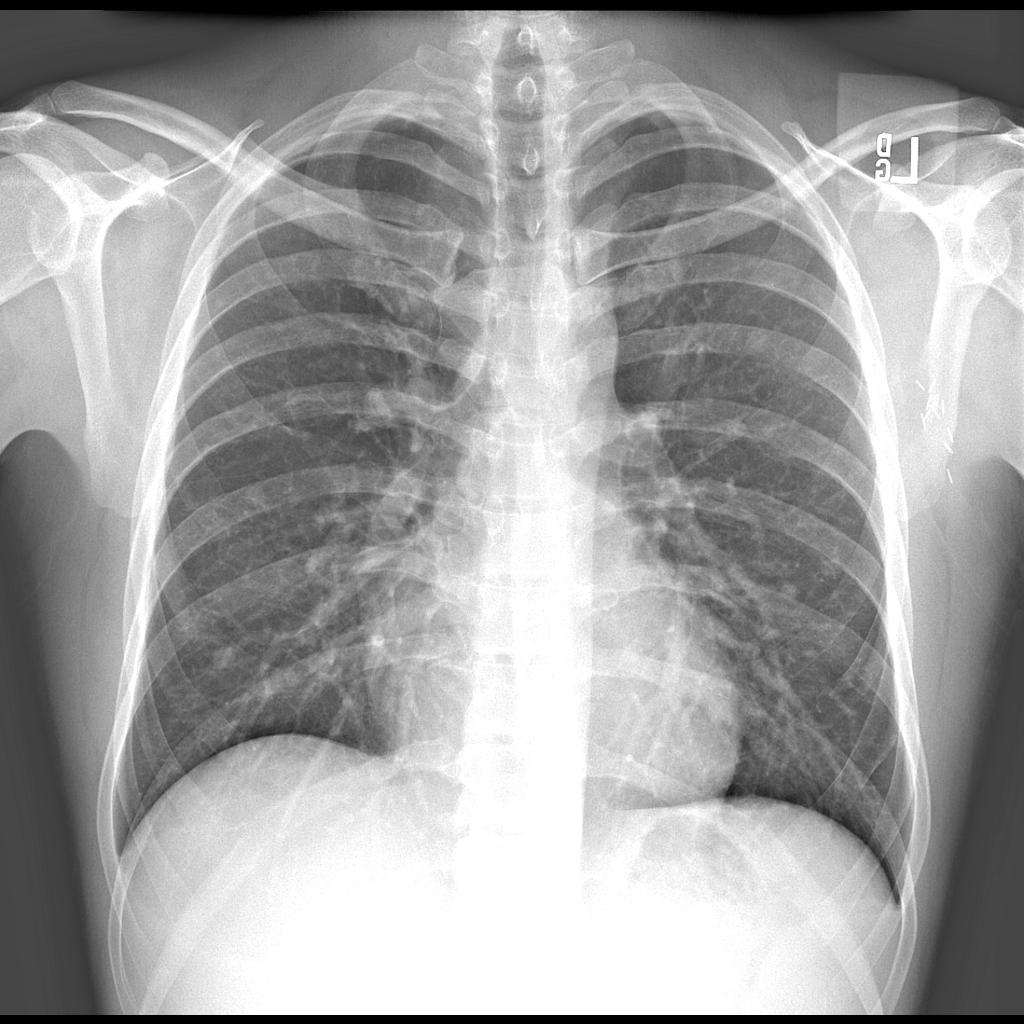Nodule: (201, 633, 246, 680), (356, 383, 393, 434)
